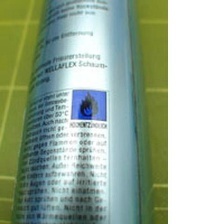aerosol_cans: (4, 0, 158, 223)
